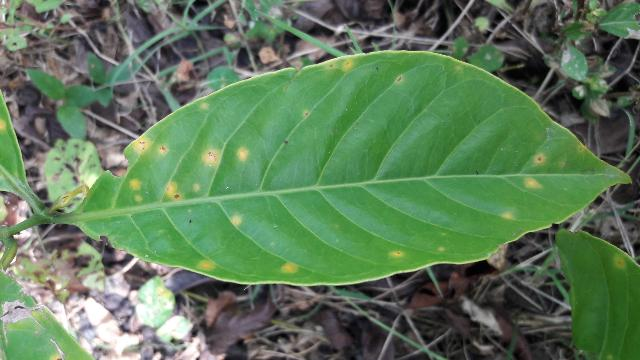rust_level_2: (65, 50, 626, 287)
